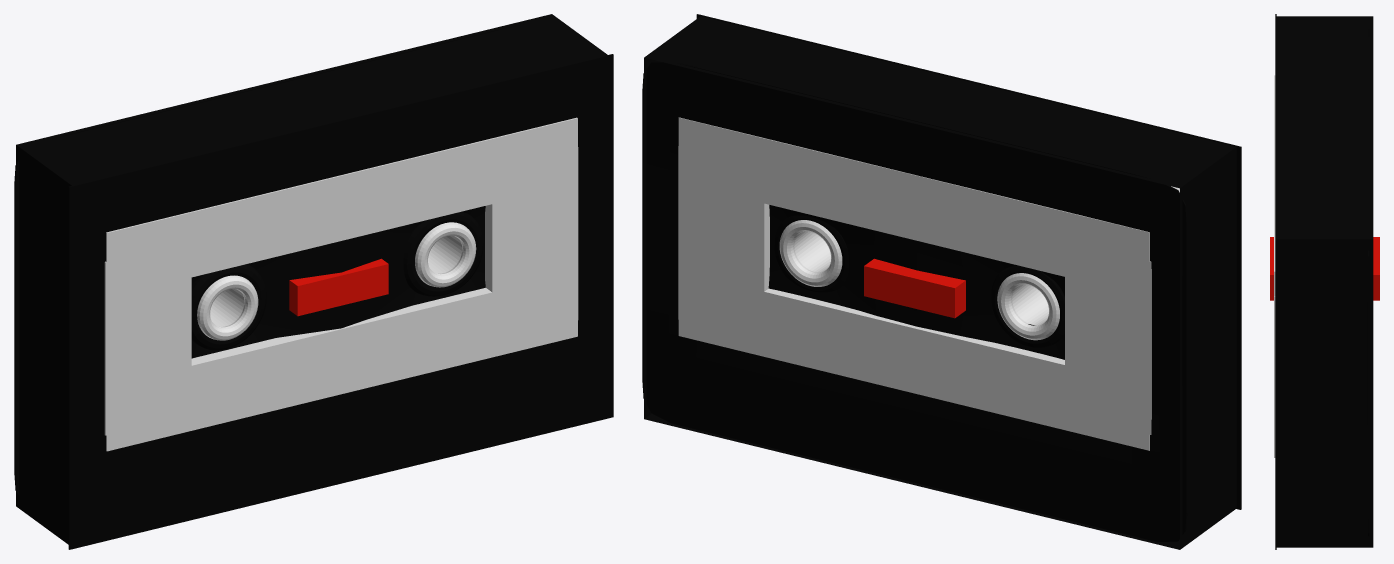
Rendered from Casette.fbx.
3 views of the same model, side by side, from view 1: azimuth 30°, elevation 25°; view 2: azimuth 150°, elevation 25°; view 3: azimuth 270°, elevation 25° (orthographic). The views are drawn at different scales.
Visible parts, largest first — view 1: Grid.001, Cube, Cube.002, Cube.003, Cube.005, Cube.004, Cube.001, Torus, Torus.001, Grid, Torus.002, Torus.003; view 2: Grid, Cube, Cube.003, Cube.002, Cube.005, Cube.004, Cube.001, Grid.001, Torus.001, Torus, Torus.003, Torus.002; view 3: Cube, Grid, Grid.001, Cube.001, Cube.002, Cube.005.
Part boxes in pixels (x1,y1,x2,y2): Grid.001: [68, 54, 613, 549]; Cube: [16, 14, 607, 544]; Cube.002: [106, 117, 577, 297]; Cube.003: [106, 272, 577, 451]; Cube.005: [485, 147, 578, 341]; Cube.004: [104, 243, 191, 435]; Cube.001: [289, 258, 388, 316]; Torus: [197, 275, 258, 340]; Torus.001: [415, 222, 476, 287]; Grid: [14, 23, 523, 494]; Torus.002: [403, 212, 483, 296]; Torus.003: [191, 264, 266, 350]; Grid: [642, 61, 1187, 541]; Cube: [644, 16, 1236, 549]; Cube.003: [678, 271, 1149, 450]; Cube.002: [678, 117, 1179, 297]; Cube.005: [678, 146, 769, 325]; Cube.004: [1065, 241, 1151, 434]; Cube.001: [864, 258, 965, 318]; Grid.001: [696, 14, 1241, 509]; Torus.001: [779, 220, 842, 286]; Torus: [997, 273, 1059, 340]; Torus.003: [990, 266, 1064, 347]; Torus.002: [774, 215, 849, 292]; Cube: [1276, 16, 1373, 547]; Grid: [1367, 29, 1369, 536]; Grid.001: [1275, 14, 1276, 549]; Cube.001: [1270, 237, 1379, 300]; Cube.002: [1274, 75, 1275, 296]; Cube.005: [1274, 296, 1275, 444].
Bounding box in the file's own units: 371 × 236 × 75.95.
